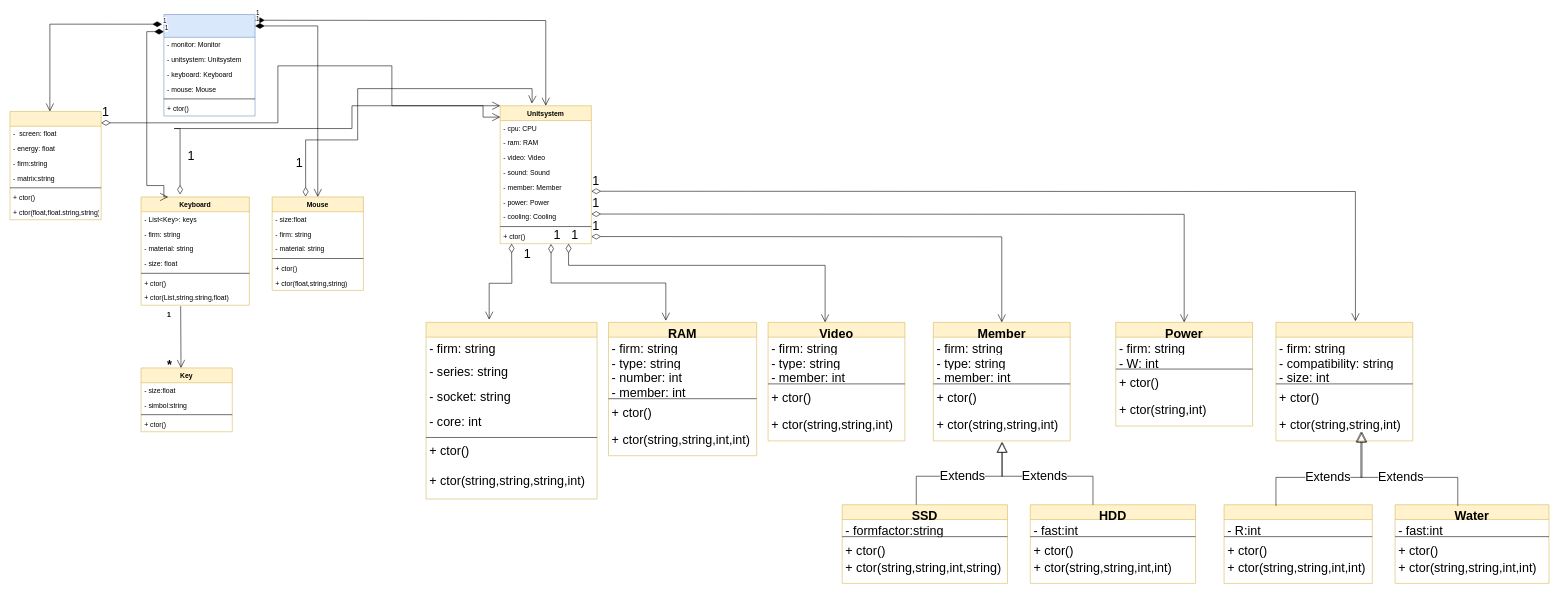
The diagram is 1559 pixels wide and 595 high, and some of its shapes have lost their labels. Each missing label, with the box of its shape:
Air: (1224, 504, 1372, 583)
Computer: (163, 14, 255, 116)
Cooling: (1275, 322, 1413, 441)
CPU: (426, 322, 597, 499)
Monitor: (9, 111, 101, 220)
